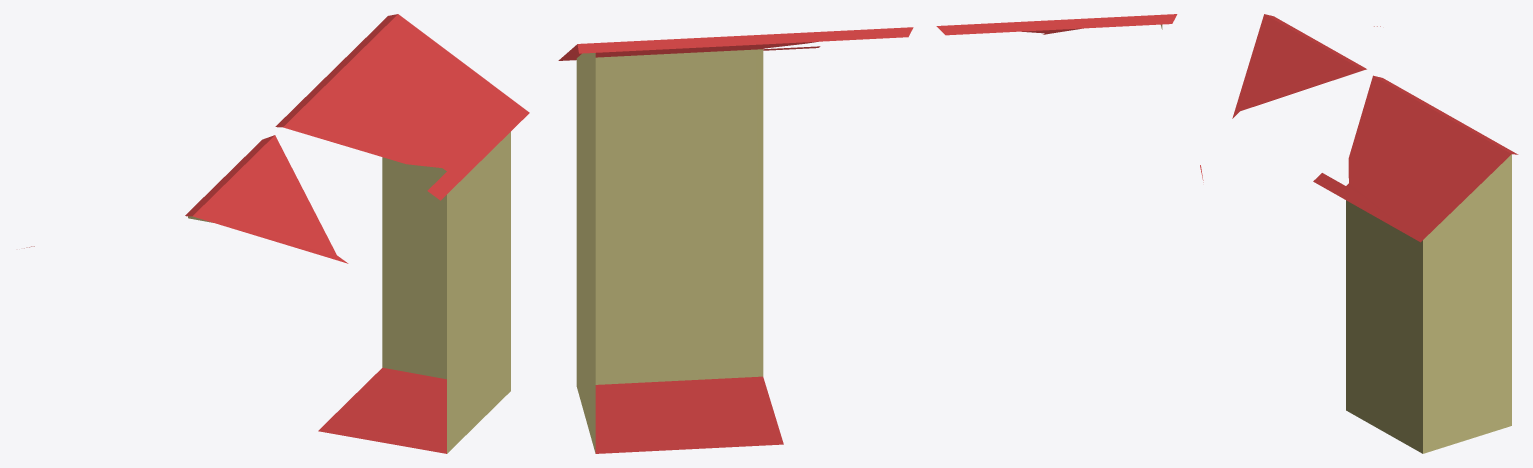
3 renders of one model, left to right at view 1: azimuth 30°, elevation 25°; view 2: azimuth 150°, elevation 25°; view 3: azimuth 270°, elevation 25°, orthographic. The views are drawn at different scales.
Size of the model in its own units: 10.78 by 6.28 by 6.72.
